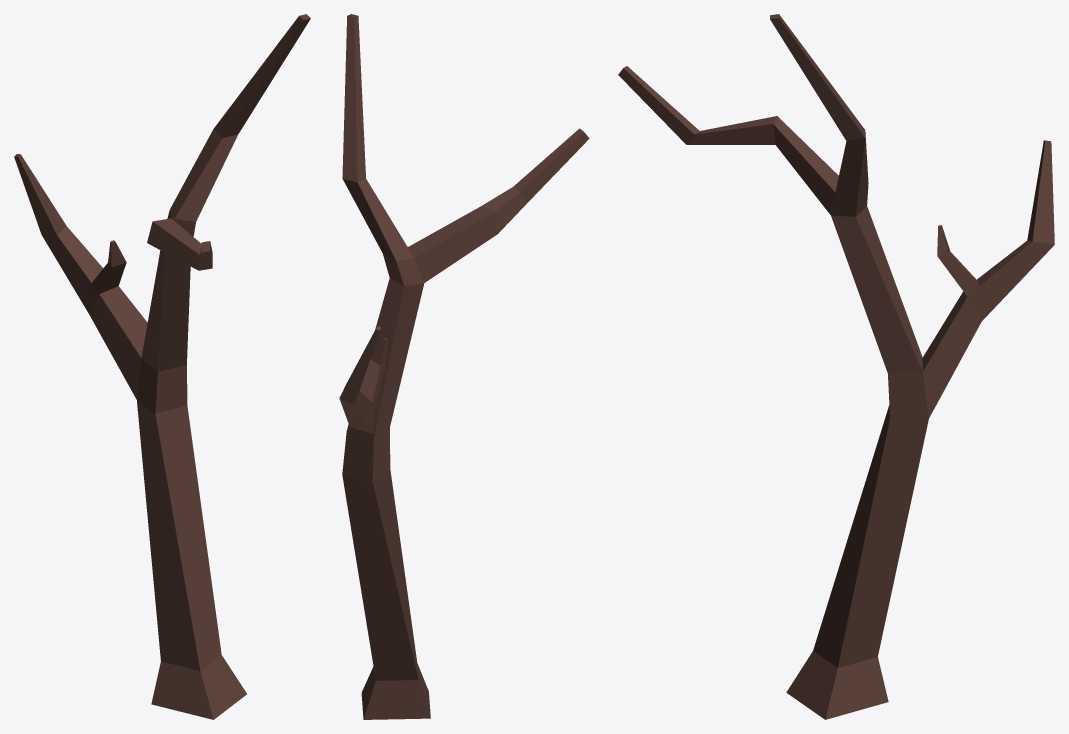
Rendered from tree1.fbx.
The picture shows the model from 3 angles, left to right: view 1: azimuth 30°, elevation 25°; view 2: azimuth 150°, elevation 25°; view 3: azimuth 270°, elevation 25°; orthographic projection. The views are drawn at different scales.
Visible parts, largest first — view 1: Tree1; view 2: Tree1; view 3: Tree1.
Boxes of the visible parts, box(x1,y1,x2,y2) form: Tree1: box(14, 14, 310, 719); Tree1: box(339, 14, 589, 719); Tree1: box(618, 14, 1054, 719).
Bounding box in the file's own units: 94.25 × 343 × 188.
Materials: 1 (1 with a texture image).
